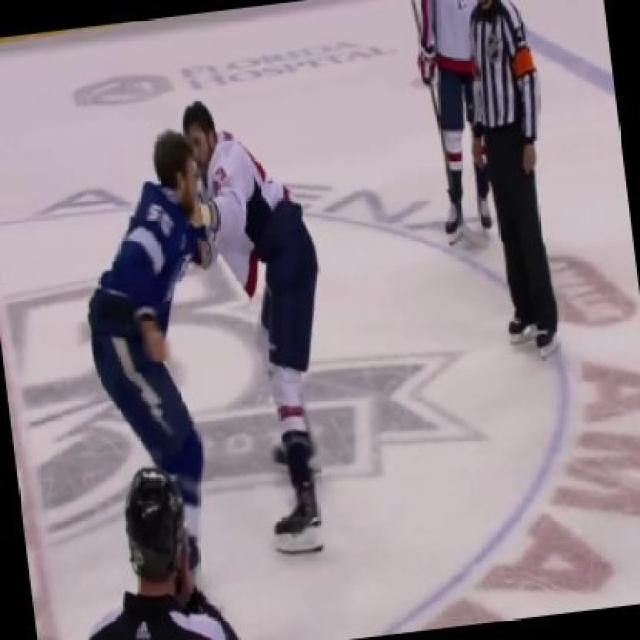fight: (83, 98, 328, 560)
non-fight: (460, 0, 564, 357)
